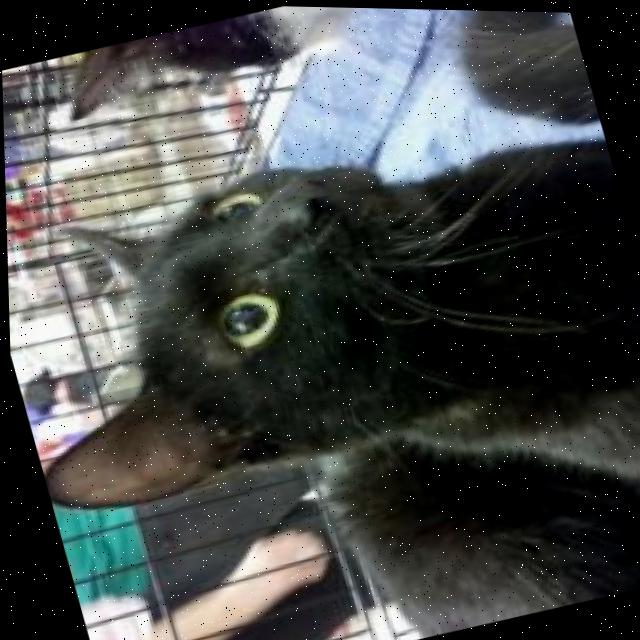Bombay: (2, 77, 640, 640)
